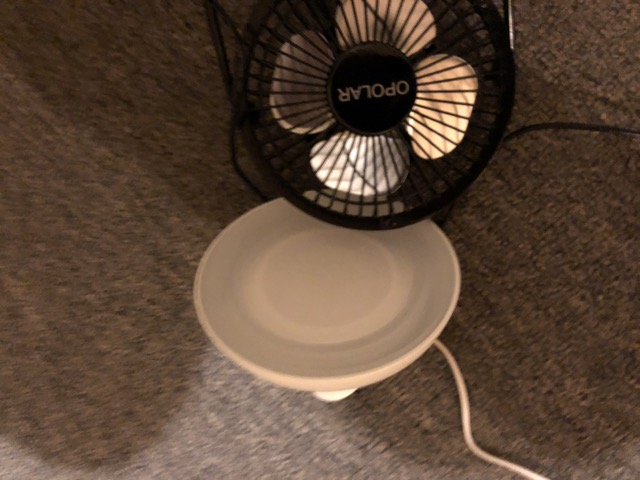fan: (224, 4, 524, 227)
light: (179, 185, 505, 403)
